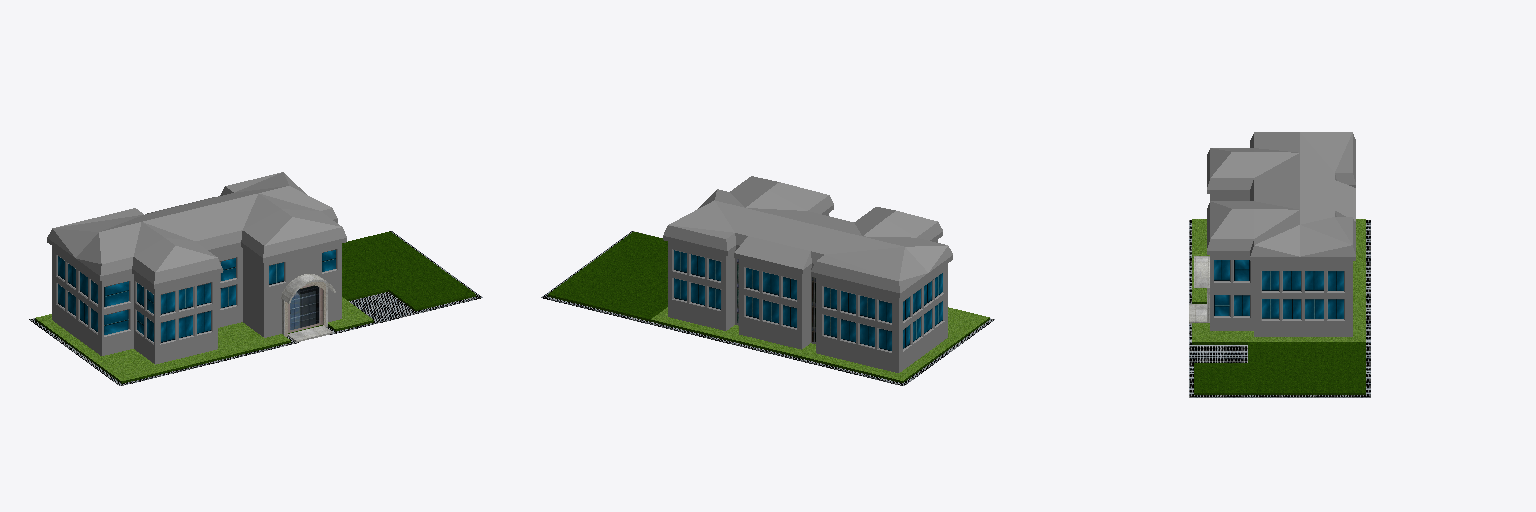
3 renders of one model, left to right at view 1: azimuth 30°, elevation 25°; view 2: azimuth 150°, elevation 25°; view 3: azimuth 270°, elevation 25°, orthographic.
Visible parts, largest first — view 1: building_relic; view 2: building_relic; view 3: building_relic.
Part boxes in pixels (bbox=[...]): building_relic: bbox=[29, 172, 482, 385]; building_relic: bbox=[541, 176, 994, 385]; building_relic: bbox=[1189, 132, 1370, 397].
Bounding box in the file's own units: 458 × 129 × 198.
12 materials, 8 textured.